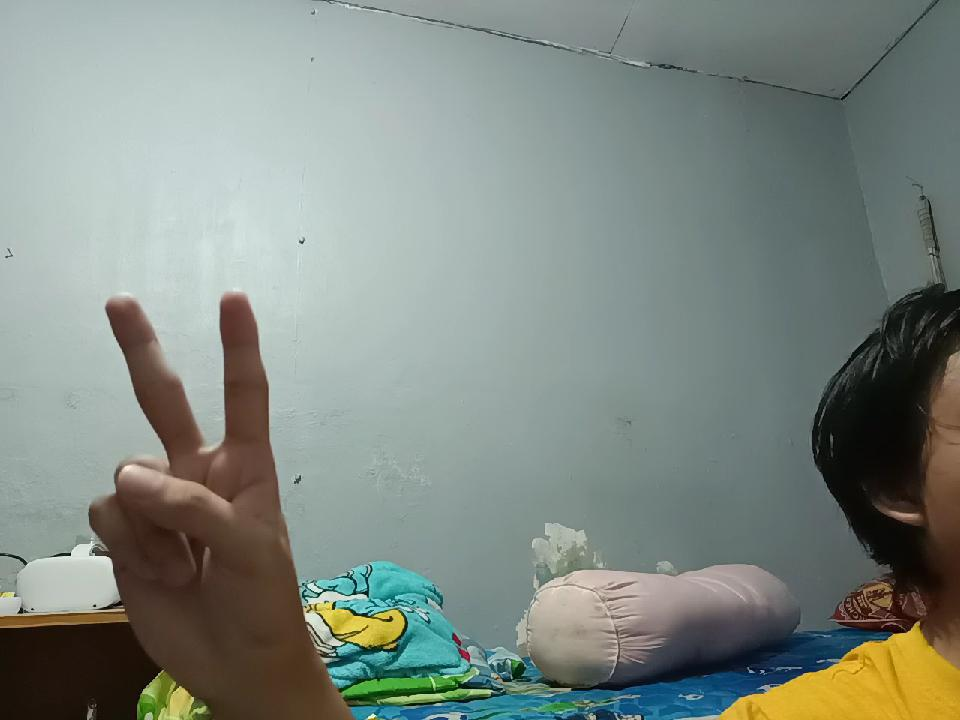scissors: (88, 269, 304, 684)
